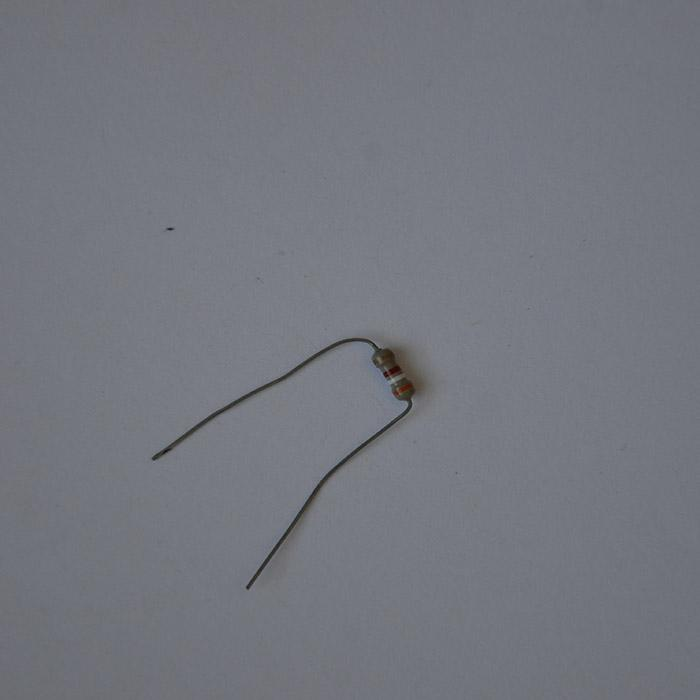resistor: (371, 346, 413, 402)
